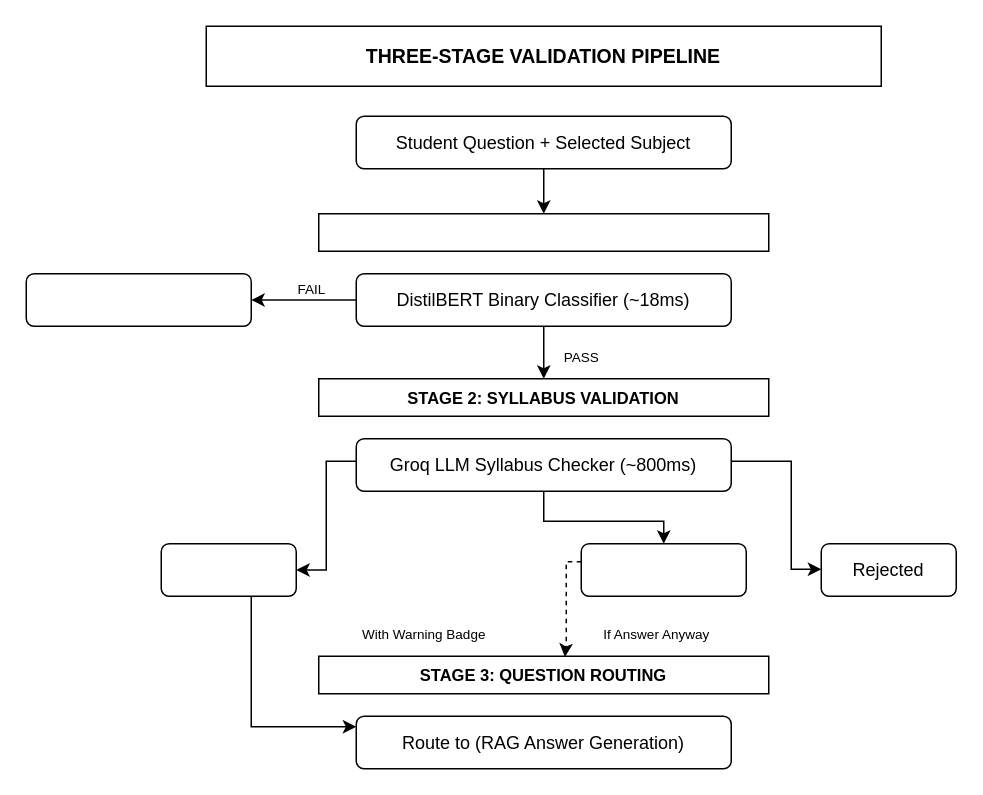
Some shapes in this 983 by 795 pixel diagram are drawn without their labels. The centre of each missing label's shape, as x and y in pixels:
"Irrelevant → Rejected" belongs at [138,299].
"Out of Syllabus" belongs at [663,569].
"STAGE 1: SUBJECT RELEVANT CLASSIFICATION" belongs at [543,231].
"Valid" belongs at [228,569].
